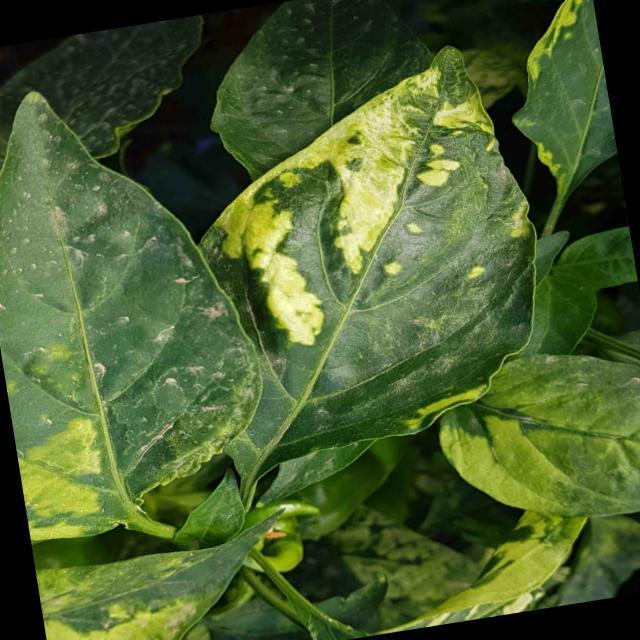Mosaic Virus: (184, 68, 576, 480), (0, 184, 229, 544), (417, 356, 640, 561), (35, 524, 317, 640), (485, 0, 624, 208)
